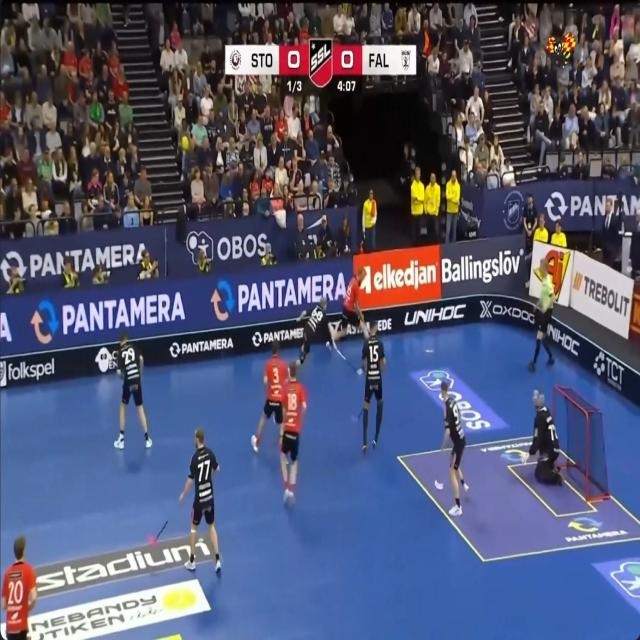player: (180, 428, 221, 575), (114, 333, 152, 449), (251, 341, 288, 452), (1, 536, 37, 639), (523, 390, 562, 484), (440, 380, 467, 515), (281, 363, 306, 504), (362, 322, 386, 452), (529, 258, 555, 371), (334, 268, 368, 345), (297, 298, 333, 365)
stick: (334, 343, 348, 362), (346, 359, 362, 374), (334, 343, 347, 360), (352, 407, 363, 422), (440, 436, 448, 453), (148, 535, 157, 545), (434, 480, 442, 490), (161, 519, 169, 529), (357, 407, 363, 419), (157, 529, 163, 536)
